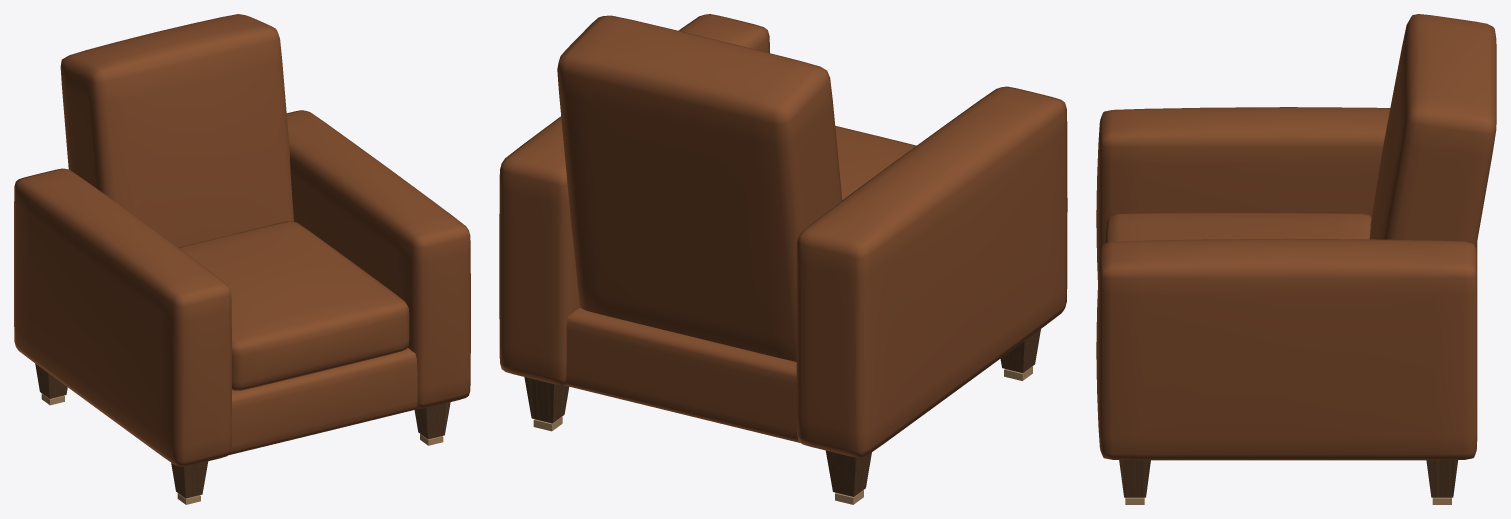
File: library_armchair_cognac.gltf
The picture shows the model from 3 angles, left to right: view 1: azimuth 30°, elevation 25°; view 2: azimuth 150°, elevation 25°; view 3: azimuth 270°, elevation 25°; orthographic projection. The views are drawn at different scales.
Parts seen in each view (by area): view 1: LibraryArmchairCognac_Upholstery, LibraryArmchairCognac_Legs; view 2: LibraryArmchairCognac_Upholstery, LibraryArmchairCognac_Legs, LibraryArmchairCognac_Caps; view 3: LibraryArmchairCognac_Upholstery, LibraryArmchairCognac_Legs.
Part boxes in pixels (x1,y1,x2,y2): LibraryArmchairCognac_Upholstery: (14, 14, 470, 466); LibraryArmchairCognac_Legs: (35, 363, 450, 498); LibraryArmchairCognac_Upholstery: (499, 14, 1067, 457); LibraryArmchairCognac_Legs: (524, 329, 1040, 496); LibraryArmchairCognac_Caps: (533, 366, 1032, 504); LibraryArmchairCognac_Upholstery: (1096, 14, 1496, 460); LibraryArmchairCognac_Legs: (1119, 460, 1458, 497).
Bounding box in the file's own units: 0.8911 × 0.9444 × 0.9121.
Materials: 3 (1 with a texture image).
